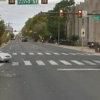Crosswalk: (18, 46, 91, 78)
